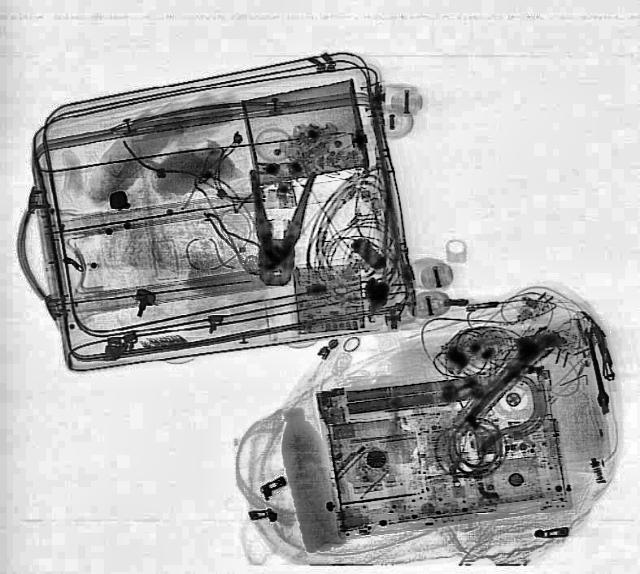Pliers: (239, 169, 319, 288)
